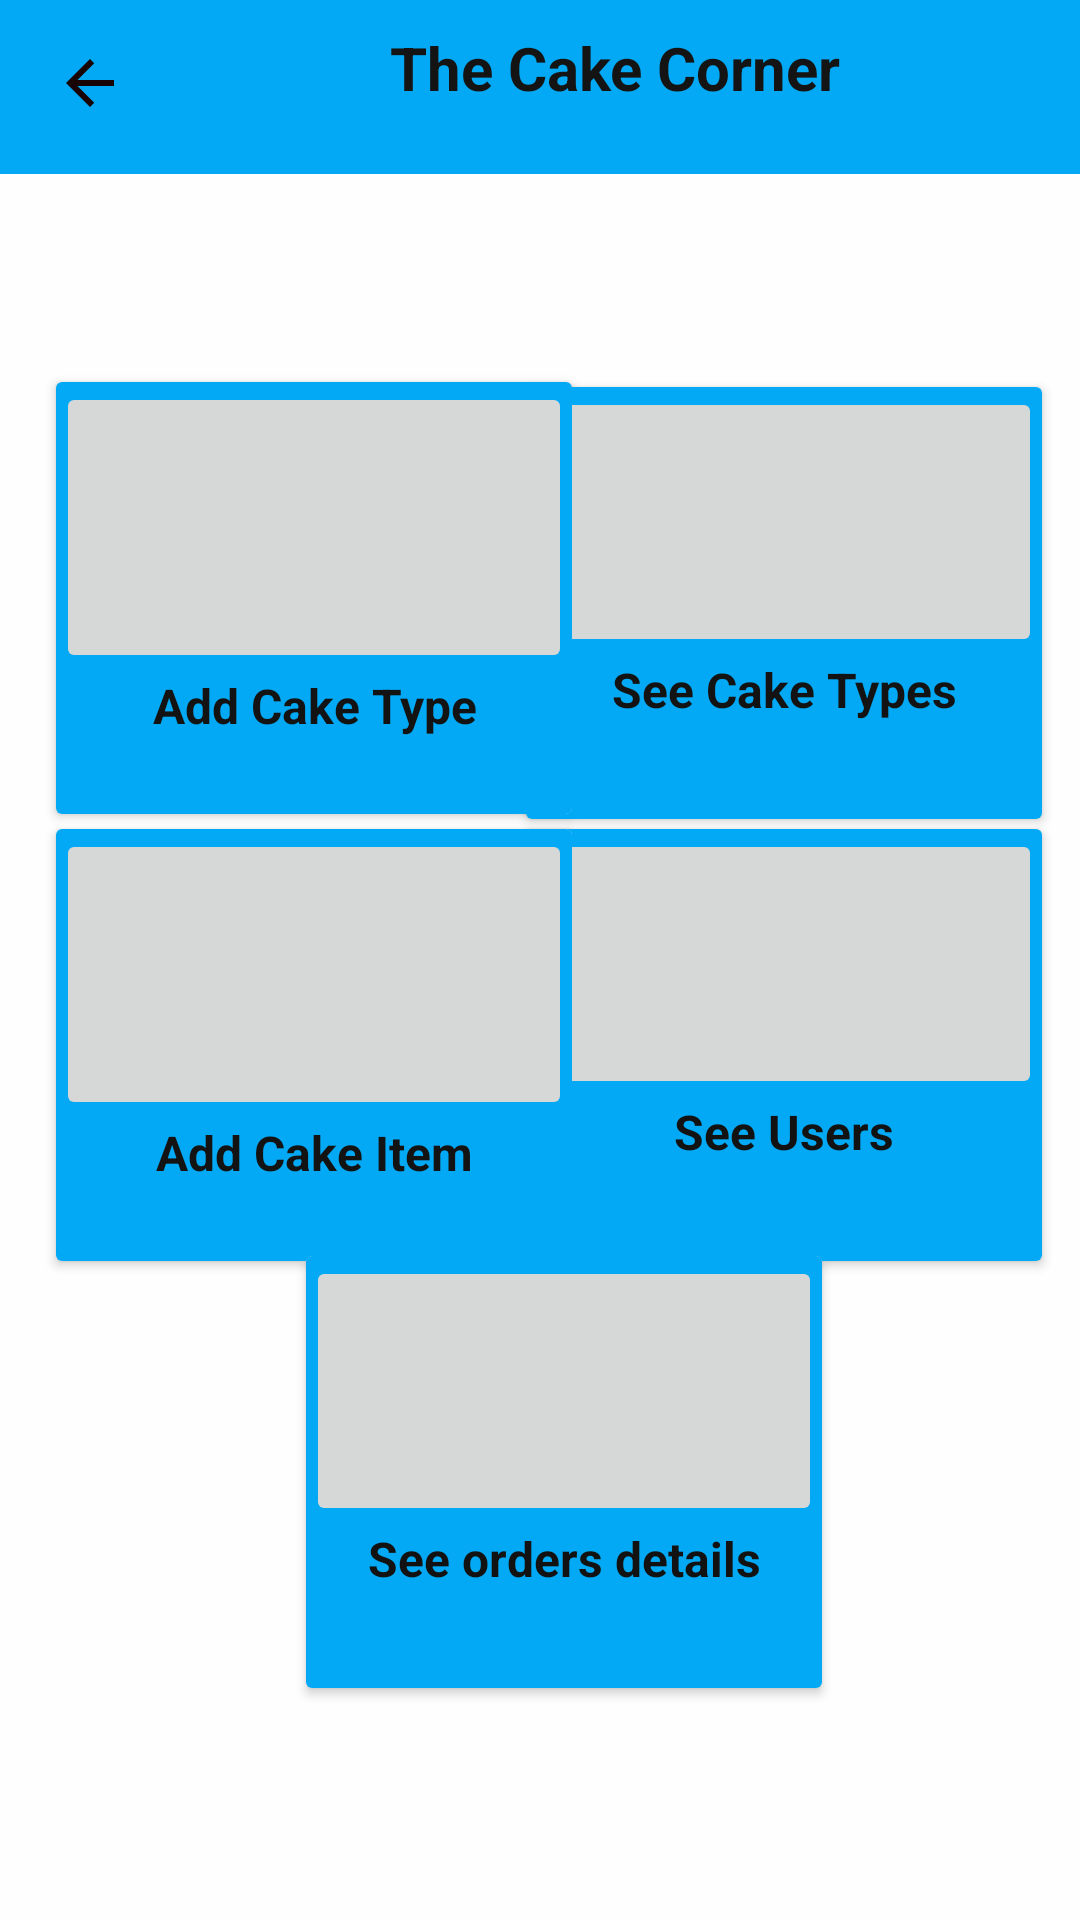

Where icons sit on this 1080px×1920px app screen, as box(x1, y1, x2, y2):
arrow back: box(66, 59, 114, 107)
